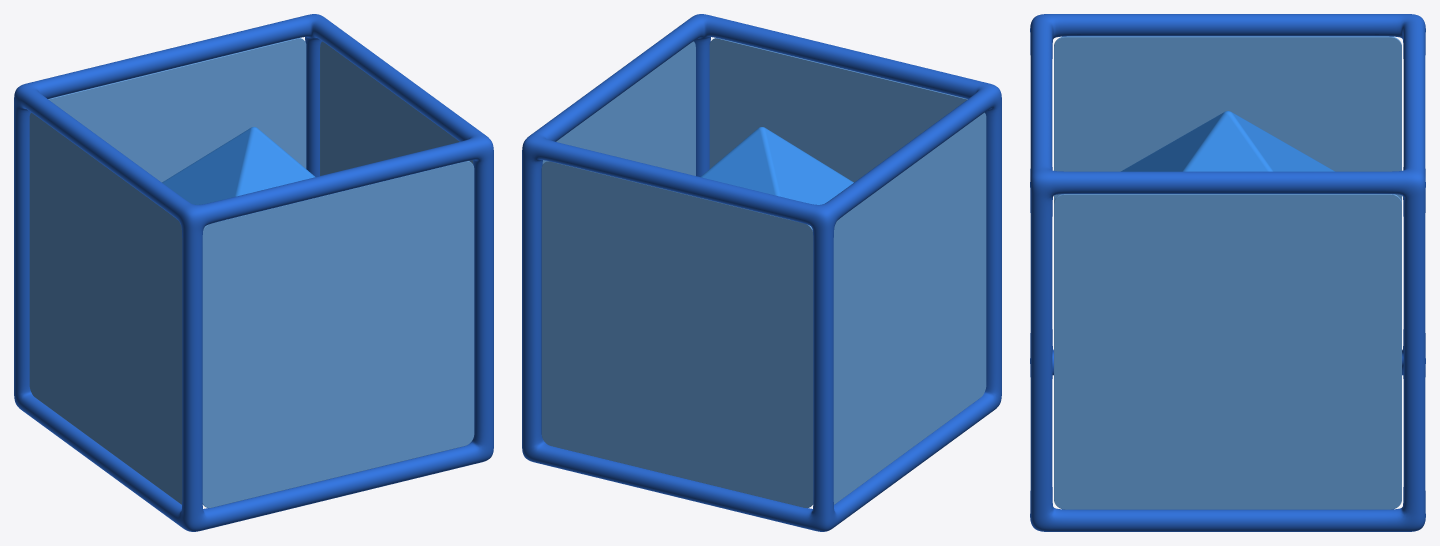
The picture shows the model from 3 angles, left to right: view 1: azimuth 30°, elevation 25°; view 2: azimuth 150°, elevation 25°; view 3: azimuth 270°, elevation 25°; orthographic projection. The views are drawn at different scales.
Visible parts, largest first — view 1: FrontGlass, RoundedCubeFrame, LeftGlass, BackGlass, RightGlass, BluePyramid; view 2: BackGlass, RoundedCubeFrame, LeftGlass, FrontGlass, RightGlass, BluePyramid; view 3: RightGlass, RoundedCubeFrame, LeftGlass, BluePyramid.
Part boxes in pixels (x1,y1,x2,y2): FrontGlass: (202,161,474,507); RoundedCubeFrame: (14,14,493,531); LeftGlass: (29,112,182,504); BackGlass: (48,38,306,182); RightGlass: (320,41,473,175); BluePyramid: (162,127,315,204); BackGlass: (541,161,813,507); RoundedCubeFrame: (522,14,1001,531); LeftGlass: (833,112,986,504); FrontGlass: (709,38,967,182); RightGlass: (542,41,695,175); BluePyramid: (700,127,853,204); RightGlass: (1054,194,1401,509); RoundedCubeFrame: (1030,14,1425,531); LeftGlass: (1054,36,1401,201); BluePyramid: (1121,111,1334,171).
Size of the model in its own units: 0.2 by 0.2 by 0.2.
